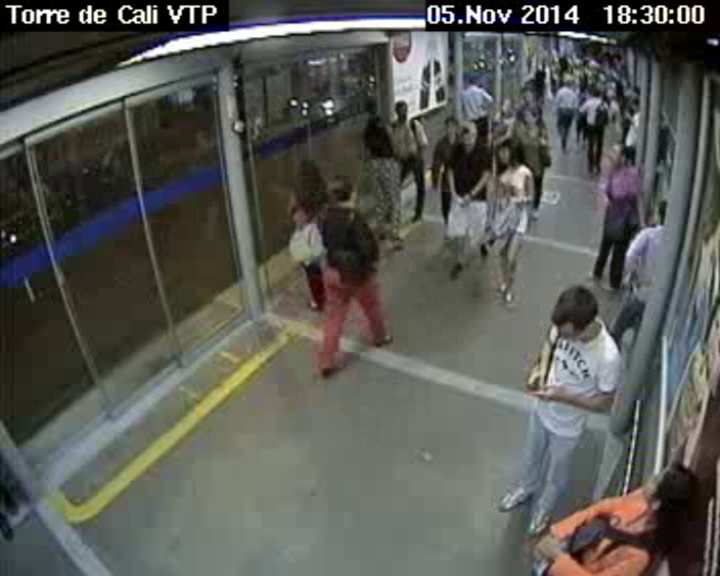person: (632, 454, 701, 527), (546, 286, 609, 343), (286, 154, 325, 194), (653, 194, 685, 233), (327, 172, 359, 210), (496, 134, 525, 168), (604, 142, 634, 171), (458, 119, 478, 150), (394, 96, 413, 121), (442, 114, 460, 138), (520, 107, 540, 126), (519, 85, 537, 105), (362, 101, 383, 118), (466, 72, 483, 90), (590, 85, 602, 100), (631, 98, 642, 113), (563, 77, 573, 90)
